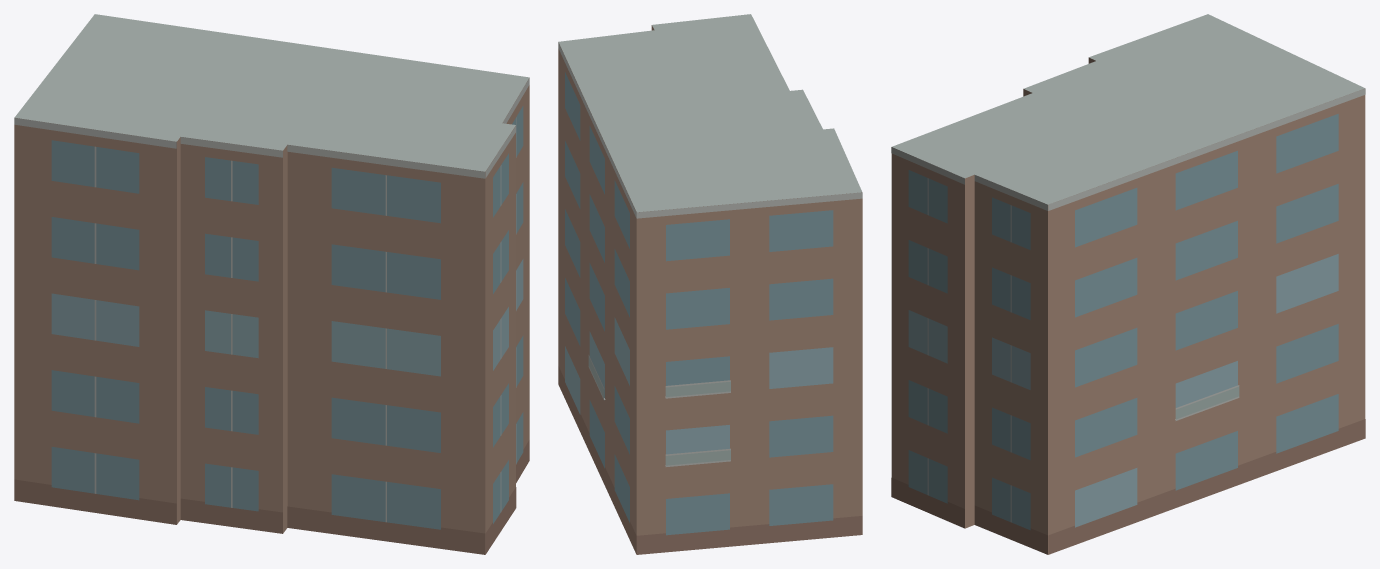
File: survey-upis-32784326.glb
3 views of the same model, side by side, from view 1: azimuth 30°, elevation 25°; view 2: azimuth 150°, elevation 25°; view 3: azimuth 270°, elevation 25° (orthographic). The views are drawn at different scales.
Parts seen in each view (by area): view 1: survey-upis-32784326.tmp; view 2: survey-upis-32784326.tmp; view 3: survey-upis-32784326.tmp.
Boxes of the visible parts, left/top/right/bottom form: survey-upis-32784326.tmp: left=14, top=14, right=529, bottom=554; survey-upis-32784326.tmp: left=558, top=14, right=862, bottom=554; survey-upis-32784326.tmp: left=891, top=14, right=1365, bottom=554.
Bounding box in the file's own units: 15.54 × 13.3 × 16.32.
